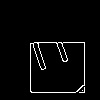U: (25, 25, 75, 80)
